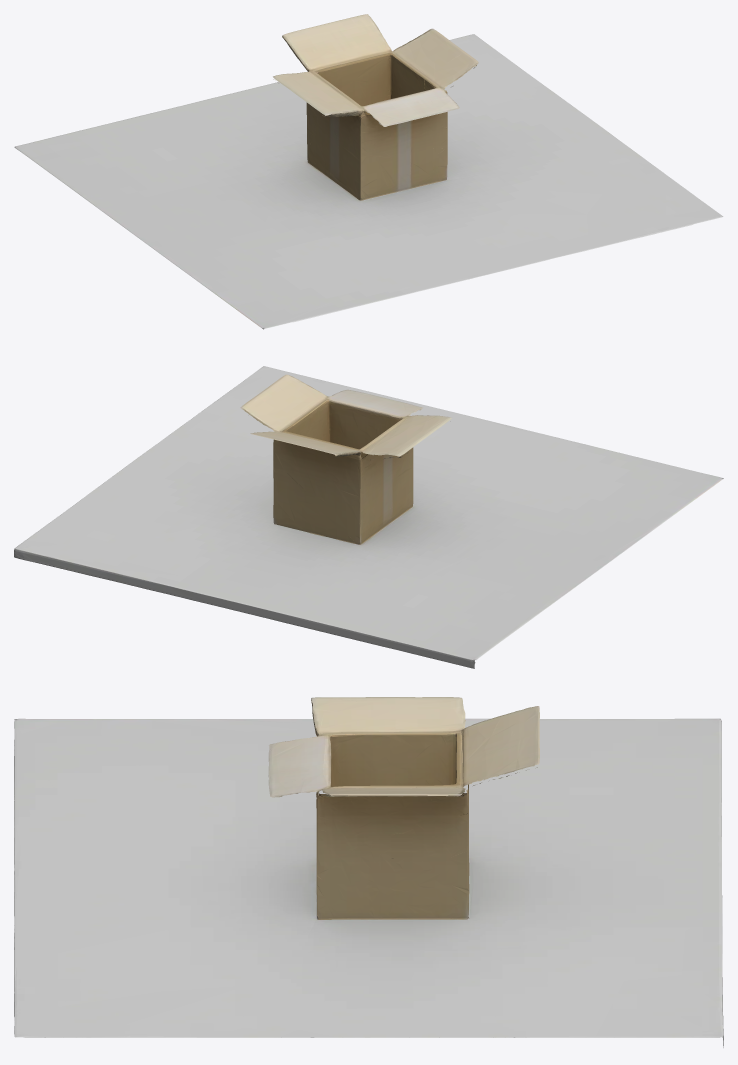
3 renders of one model, top to bottom at view 1: azimuth 30°, elevation 25°; view 2: azimuth 150°, elevation 25°; view 3: azimuth 270°, elevation 25°, orthographic. The views are drawn at different scales.
Parts seen in each view (by area): view 1: geometry_0; view 2: geometry_0; view 3: geometry_0.
Boxes of the visible parts, bbox=[...] form: geometry_0: bbox=[14, 14, 723, 329]; geometry_0: bbox=[14, 366, 723, 668]; geometry_0: bbox=[14, 697, 723, 1047].
Bounding box in the file's own units: 0.9994 × 0.2466 × 0.9393.
1 material, 1 textured.
